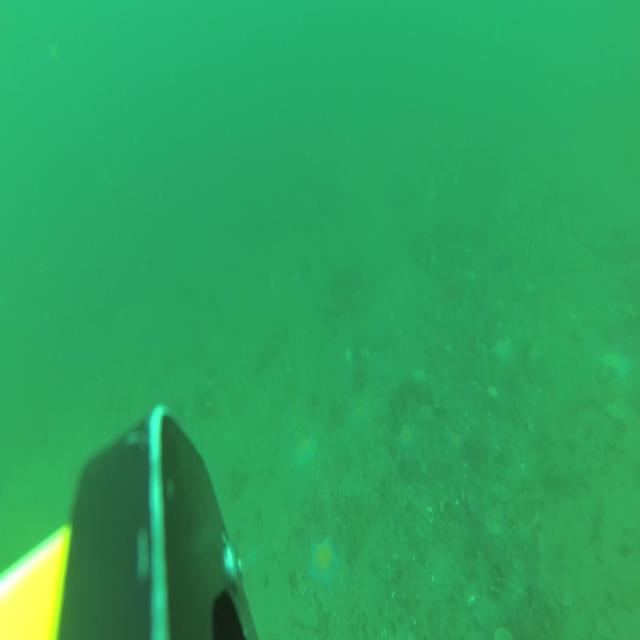holothurian: (538, 467, 582, 502)
scallop: (551, 576, 574, 607), (483, 513, 505, 538), (606, 399, 628, 422), (291, 572, 306, 598), (494, 624, 512, 640)
starfish: (304, 532, 342, 586), (600, 344, 632, 385), (292, 436, 320, 470), (396, 422, 418, 458), (488, 336, 514, 366)
